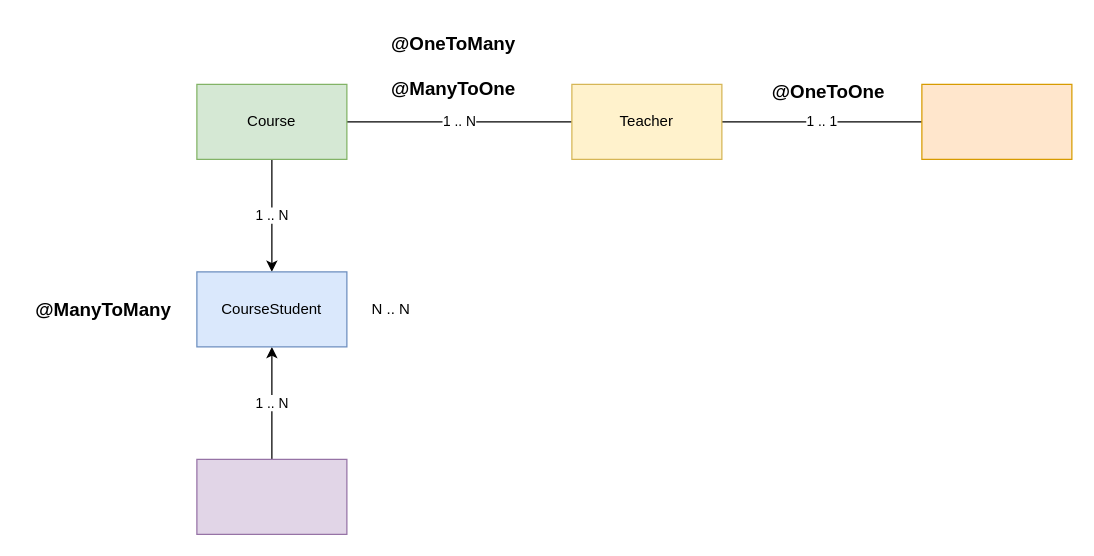
This 1094x556 diagram has some shape labels left out. Each missing label, with the centre of its shape:
Students: (x=271, y=496)
TeacherDetail: (x=996, y=121)
